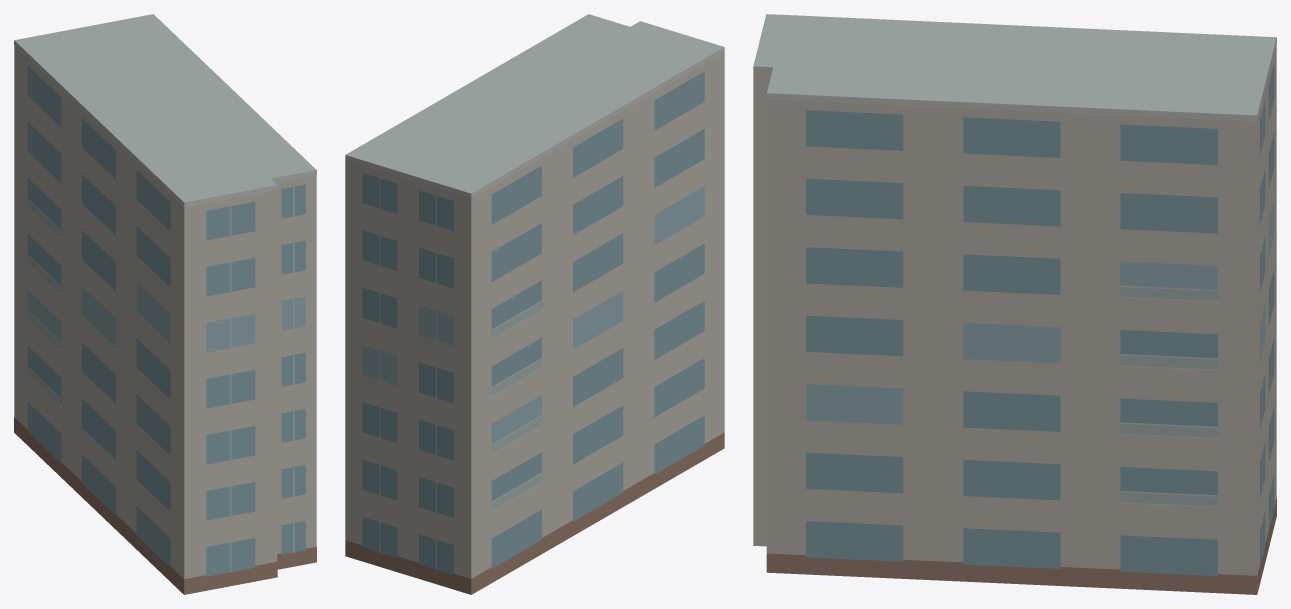
Rendered from survey-upis-32544626.glb.
The picture shows the model from 3 angles, left to right: view 1: azimuth 30°, elevation 25°; view 2: azimuth 150°, elevation 25°; view 3: azimuth 270°, elevation 25°; orthographic projection. The views are drawn at different scales.
Parts seen in each view (by area): view 1: survey-upis-32544626.tmp; view 2: survey-upis-32544626.tmp; view 3: survey-upis-32544626.tmp.
Boxes of the visible parts, x1,y1,x2,y2 form: survey-upis-32544626.tmp: (14,14,316,594); survey-upis-32544626.tmp: (345,14,724,594); survey-upis-32544626.tmp: (753,14,1276,594).
Bounding box in the file's own units: 8.95 × 19.7 × 19.51.
